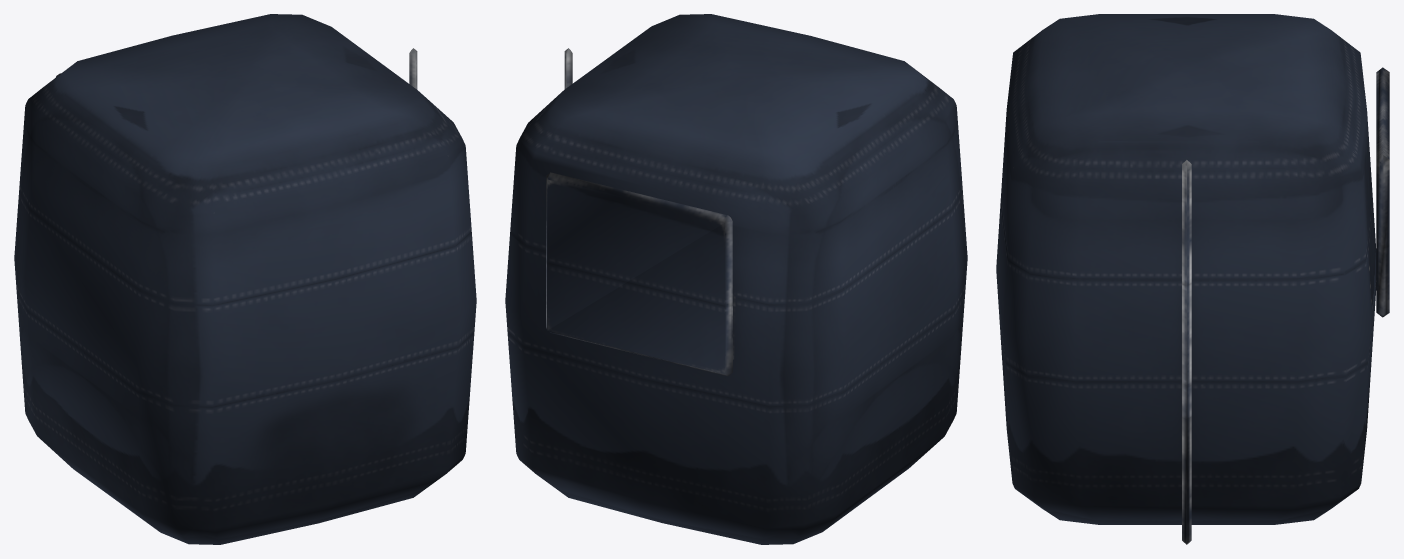
Rendered from Maton_PantalonArribaIzq.fbx.
3 views of the same model, side by side, from view 1: azimuth 30°, elevation 25°; view 2: azimuth 150°, elevation 25°; view 3: azimuth 270°, elevation 25° (orthographic).
Parts seen in each view (by area): view 1: Maton_PantalonArribaIzq; view 2: Maton_PantalonArribaIzq; view 3: Maton_PantalonArribaIzq.
Part boxes in pixels (x1,y1,x2,y2): Maton_PantalonArribaIzq: (14, 14, 476, 544); Maton_PantalonArribaIzq: (505, 14, 967, 544); Maton_PantalonArribaIzq: (996, 14, 1389, 544).
Bounding box in the file's own units: 1.26 × 1.43 × 1.26.
